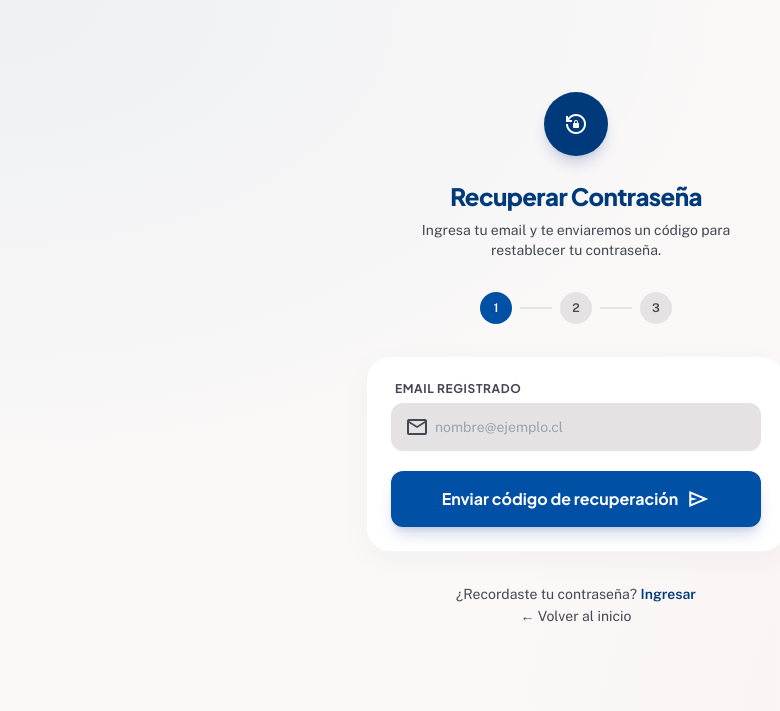
CP-RECOVERY — Recuperación de contraseña › CP-RECOVERY-001: enviar email válido muestra el paso 2 con inputs del código
Type "user@test.com" into the field with placeholder "nombre@ejemplo.cl" at (576, 427), box [391,403,761,451]
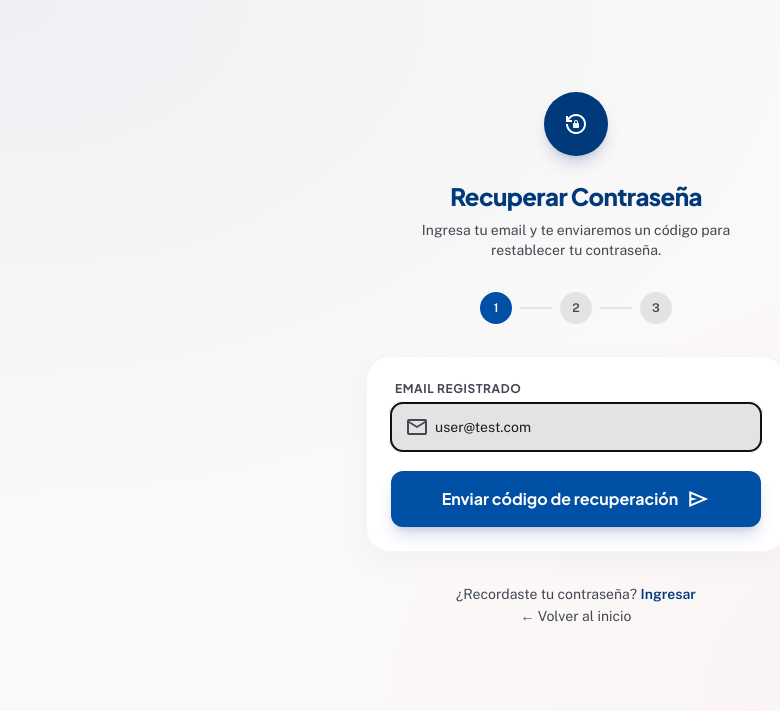
Click the button "Enviar código de recuperación" at (576, 499), box [391,471,761,527]
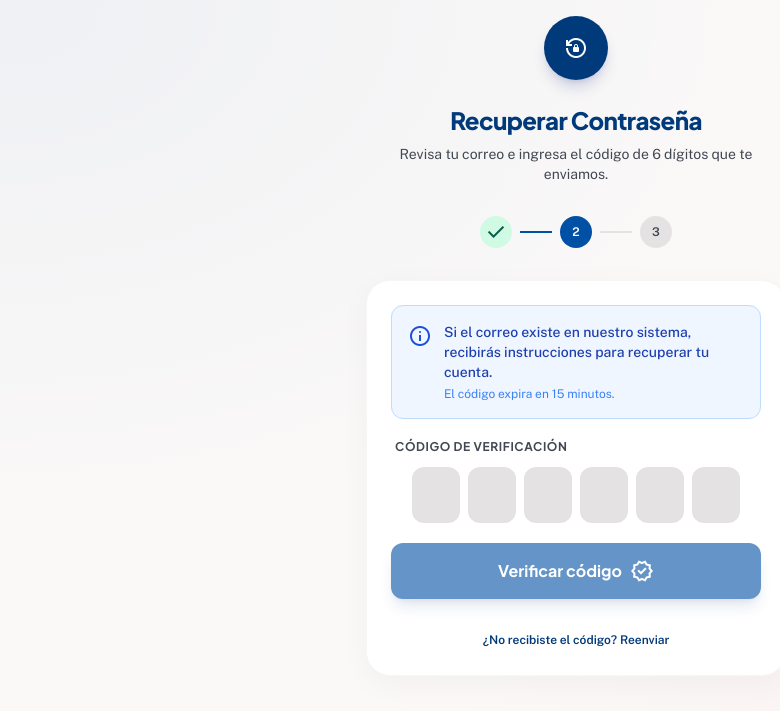
Now the field named "Dígito 1 del código" is shown, box [412,467,460,523]
Now the field named "Dígito 6 del código" is shown, box [692,467,740,523]
Now the text "Si el correo existe en nuestro sistema" is shown, box [444,324,709,380]
